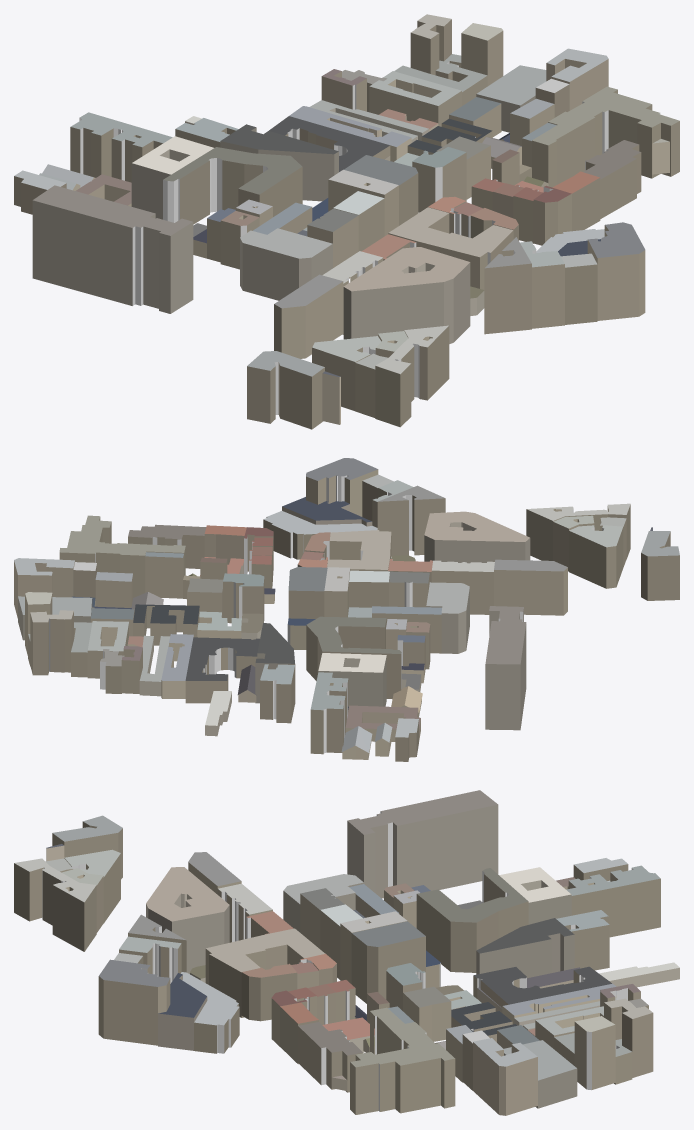
3 renders of one model, top to bottom at view 1: azimuth 30°, elevation 25°; view 2: azimuth 150°, elevation 25°; view 3: azimuth 270°, elevation 25°, orthographic. The views are drawn at different scales.
Parts seen in each view (by area): view 1: tuile; view 2: tuile; view 3: tuile.
Part boxes in pixels (bbox=[...]): tuile: bbox=[14, 14, 679, 429]; tuile: bbox=[14, 458, 679, 761]; tuile: bbox=[14, 790, 679, 1115].
Size of the model in its own units: 266 by 33.73 by 279.
